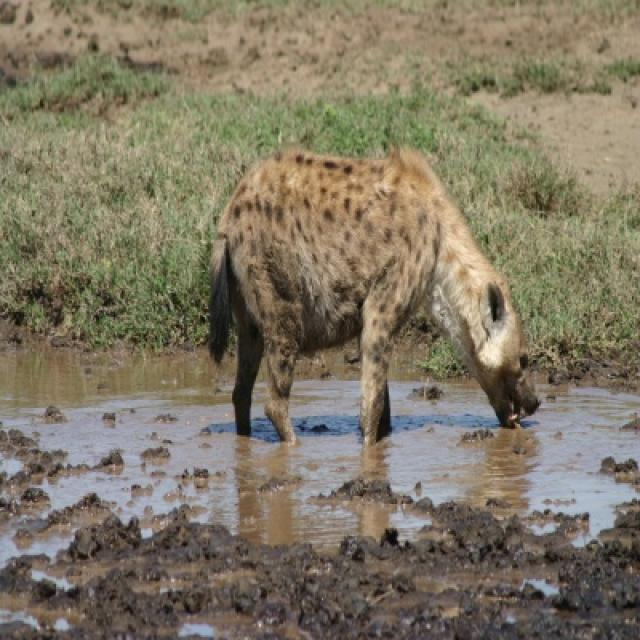hyena: (208, 147, 538, 443)
